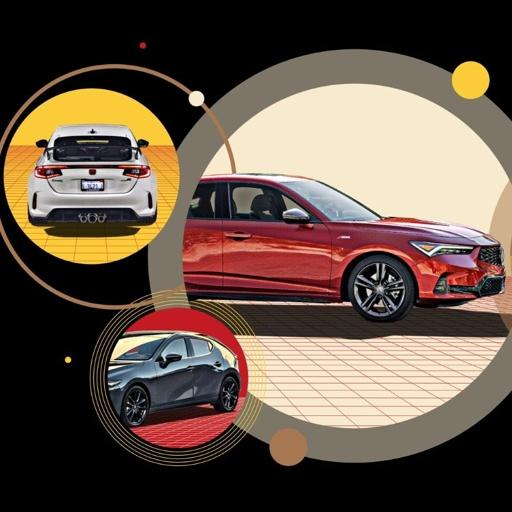hatchback: (26, 122, 156, 224), (108, 330, 240, 425)
sedan: (182, 172, 504, 320)
